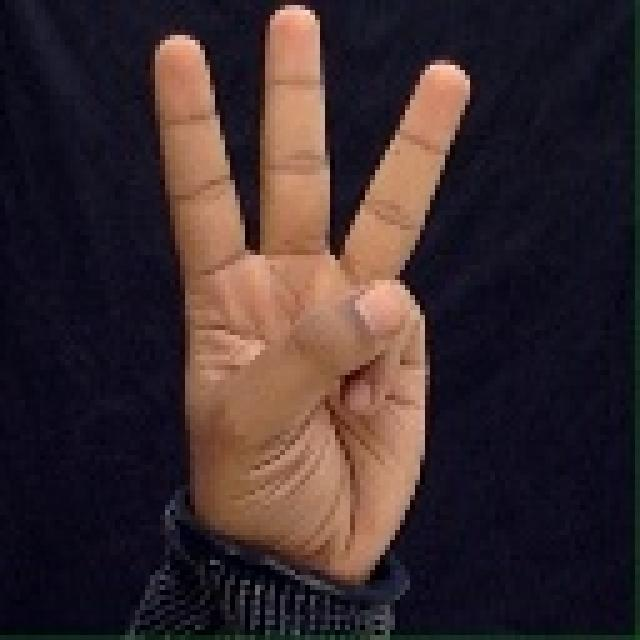Three: (101, 0, 522, 610)
